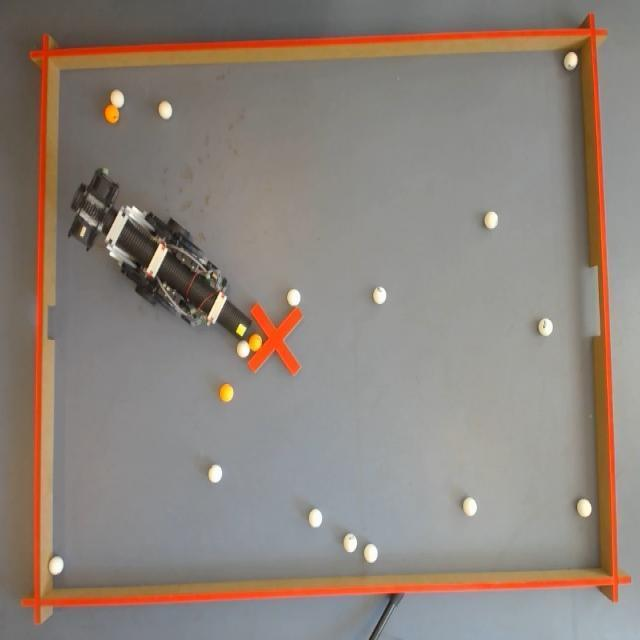orange: (104, 106, 120, 126), (219, 381, 234, 401), (250, 332, 262, 349)
robot: (65, 167, 254, 343)
white: (342, 534, 358, 555), (372, 284, 387, 306), (538, 316, 554, 334), (364, 543, 378, 563), (308, 508, 321, 529), (463, 498, 478, 516), (159, 100, 173, 119), (565, 51, 579, 70), (49, 554, 62, 574), (578, 498, 592, 516), (484, 212, 498, 230), (207, 466, 221, 484), (236, 340, 249, 358), (112, 88, 125, 105), (288, 289, 300, 306)
